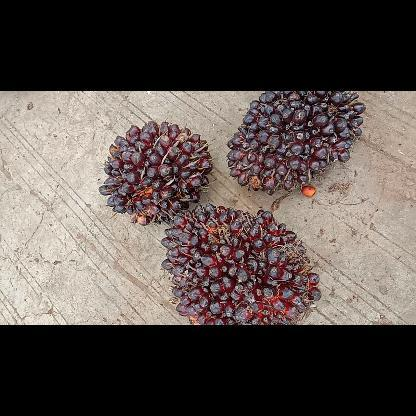TBS mentah: (157, 202, 322, 324), (223, 90, 367, 196), (96, 117, 214, 227)
